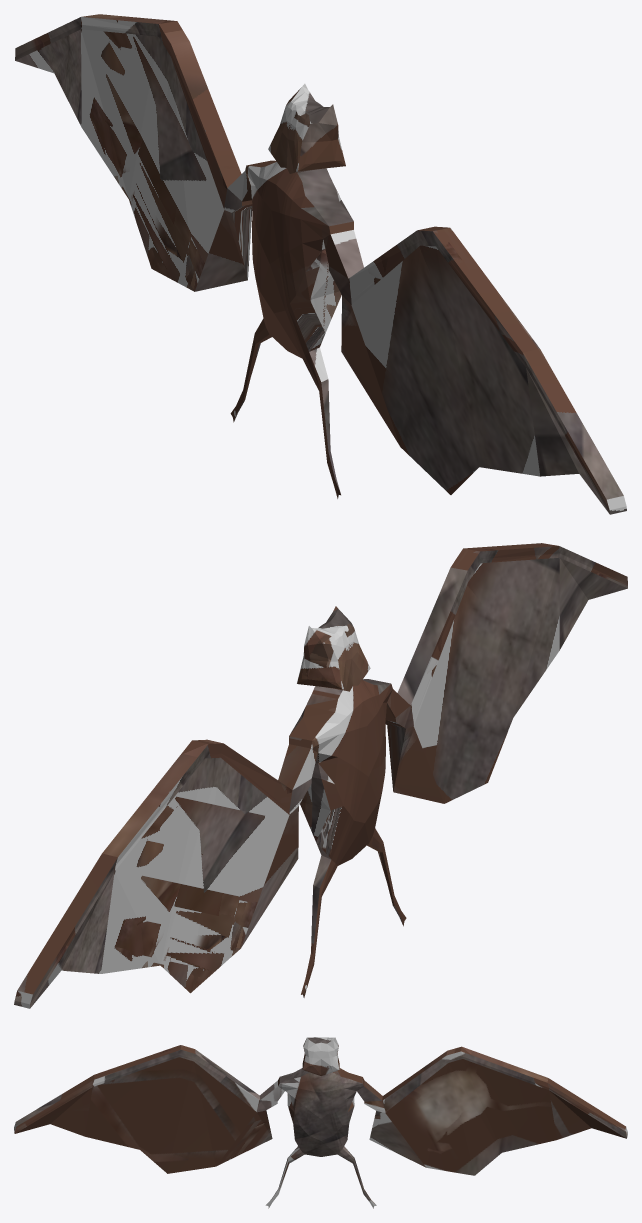
File: Enemigo128.obj
3 views of the same model, one above another, from view 1: azimuth 30°, elevation 25°; view 2: azimuth 150°, elevation 25°; view 3: azimuth 270°, elevation 25° (orthographic). The views are drawn at different scales.
Visible parts, largest first — view 1: Plano; view 2: Plano; view 3: Plano.
Boxes of the visible parts, bbox=[...] form: Plano: bbox=[15, 14, 626, 514]; Plano: bbox=[14, 543, 627, 1008]; Plano: bbox=[14, 1037, 627, 1208].
Size of the model in its own units: 0.1539 by 0.7562 by 2.34.
Materials: 1 (1 with a texture image).
